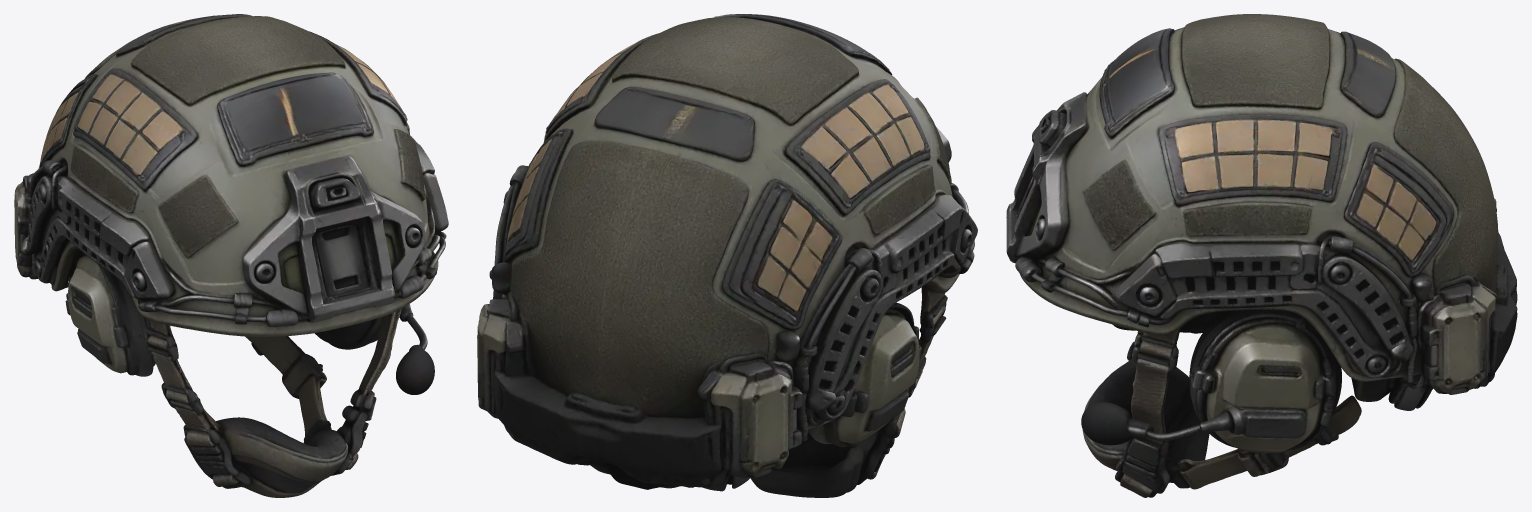
File: helmet.glb
3 views of the same model, side by side, from view 1: azimuth 30°, elevation 25°; view 2: azimuth 150°, elevation 25°; view 3: azimuth 270°, elevation 25° (orthographic). The views are drawn at different scales.
Visible parts, largest first — view 1: model; view 2: model; view 3: model.
Part boxes in pixels (x1,y1,x2,y2): model: (14,14,448,497); model: (477,14,977,497); model: (1006,14,1517,497).
Bounding box in the file's own units: 1.48 × 1.84 × 1.9.
Materials: 1 (1 with a texture image).
